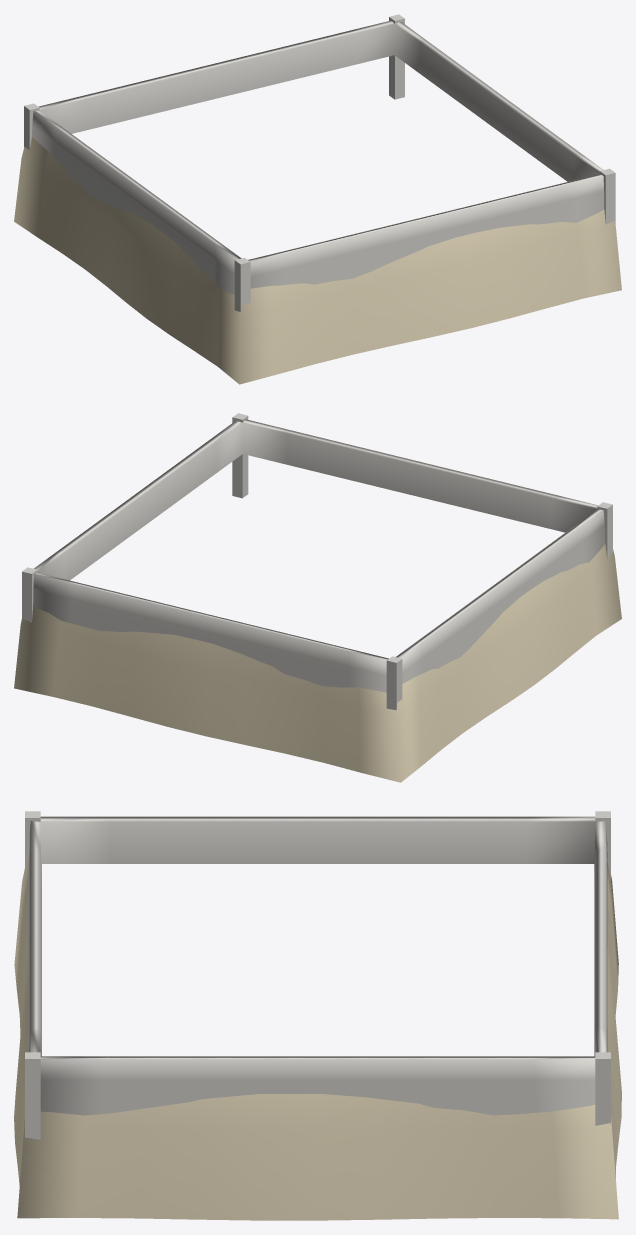
The model's file is board_table.glb.
The picture shows the model from 3 angles, top to bottom: view 1: azimuth 30°, elevation 25°; view 2: azimuth 150°, elevation 25°; view 3: azimuth 270°, elevation 25°; orthographic projection. The views are drawn at different scales.
Visible parts, largest first — view 1: BoardTablePhotoreal; view 2: BoardTablePhotoreal; view 3: BoardTablePhotoreal.
Boxes of the visible parts, x1,y1,x2,y2 form: BoardTablePhotoreal: [14, 14, 621, 384]; BoardTablePhotoreal: [14, 413, 621, 782]; BoardTablePhotoreal: [14, 811, 621, 1220].
Bounding box in the file's own units: 1.09 × 0.31 × 1.09.
